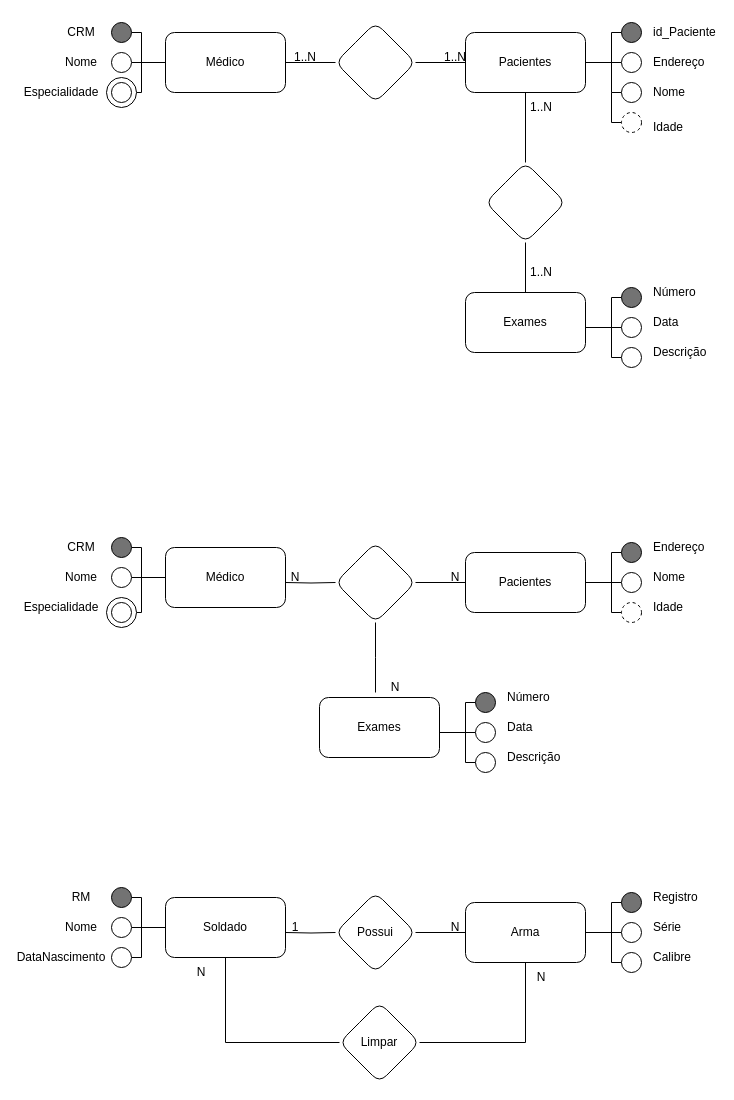
The diagram is 734 pixels wide and 1100 high, and some of its shapes have lost their labels. Here are the shapes that lost their labels. From the top down, the centre of each, then its label:
the point at 375,62: Trata
the point at 525,202: Realiza
the point at 375,582: Consulta
